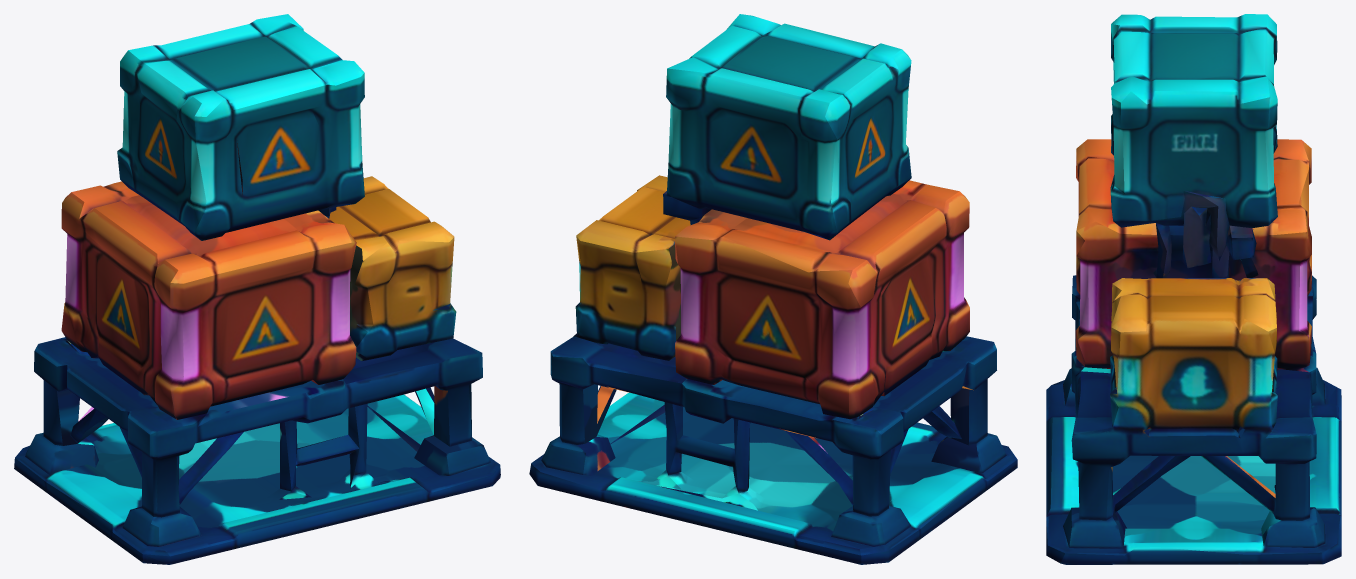
The model's file is NewBG3.fbx.
The picture shows the model from 3 angles, left to right: view 1: azimuth 30°, elevation 25°; view 2: azimuth 150°, elevation 25°; view 3: azimuth 270°, elevation 25°; orthographic projection.
Visible parts, largest first — view 1: tmpvdbunwl2.ply; view 2: tmpvdbunwl2.ply; view 3: tmpvdbunwl2.ply.
Part boxes in pixels (box(x1,y1,x2,y2)): tmpvdbunwl2.ply: box(14, 14, 500, 564); tmpvdbunwl2.ply: box(529, 14, 1017, 564); tmpvdbunwl2.ply: box(1046, 14, 1341, 564).
Bounding box in the file's own units: 179 × 199 × 127.
Materials: 1 (1 with a texture image).
